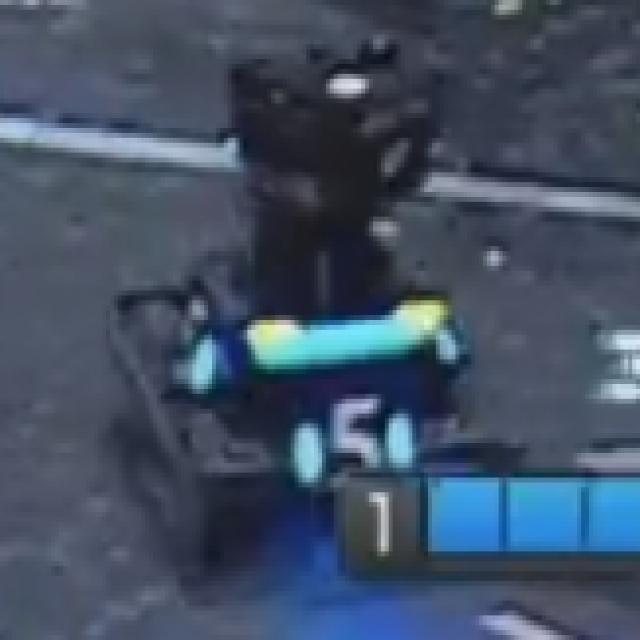B5: (303, 399, 417, 487)
